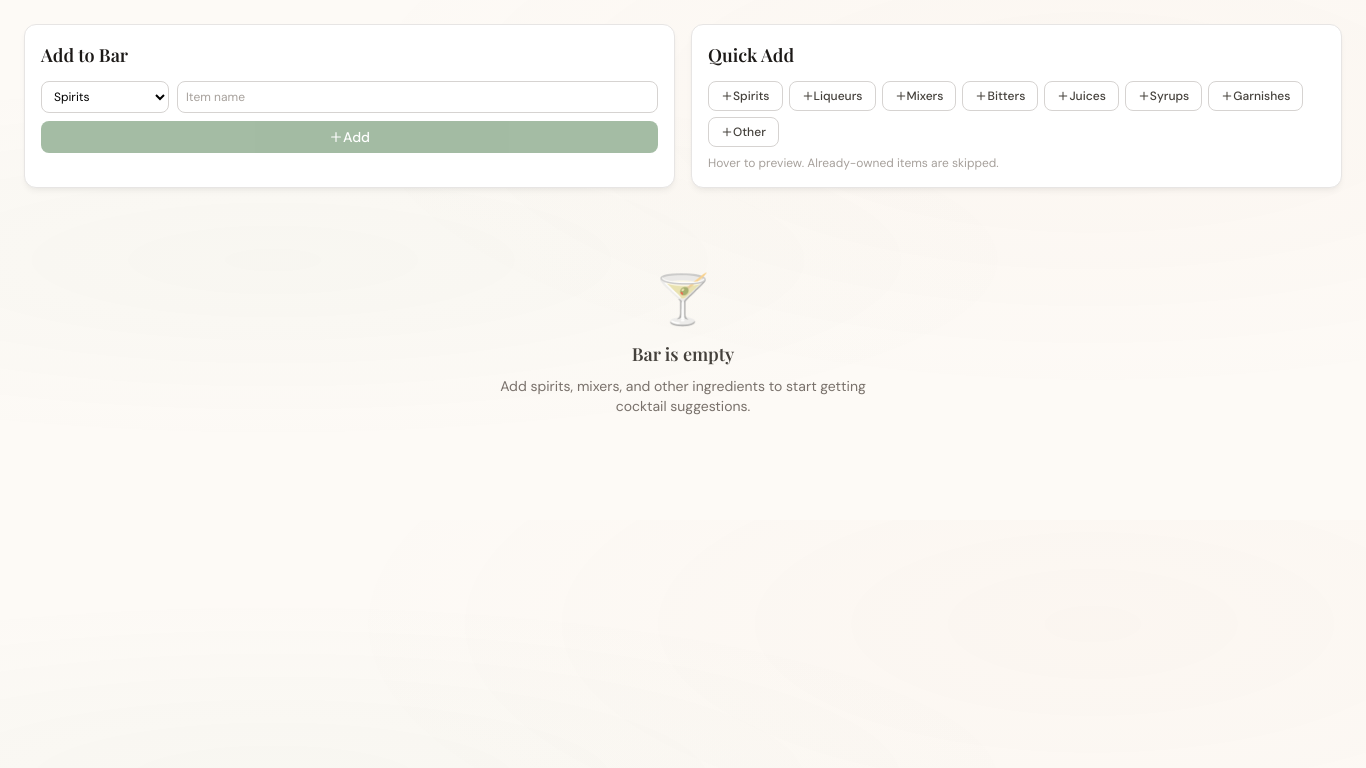
Test: BarInventory › Add-to-Bar: POSTs the new item and refetches so the tile appears
The width and height of the screenshot is (1366, 768).
Expected: the heading "Bar is empty" is shown, [632, 342, 734, 366]
Type "Gin" into the field with placeholder "Item name" at (418, 97), box [177, 81, 658, 113]
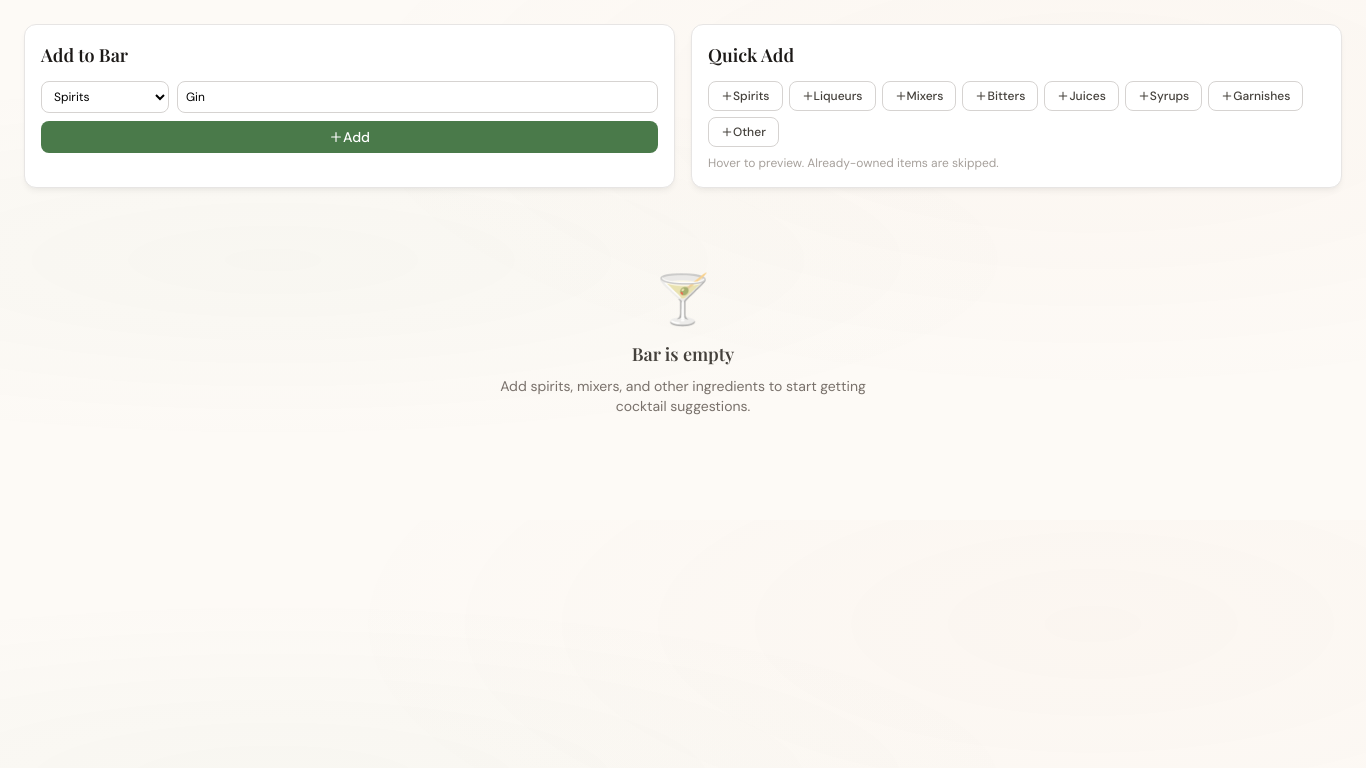
Click the button "Add" at (350, 137), box [41, 121, 658, 153]
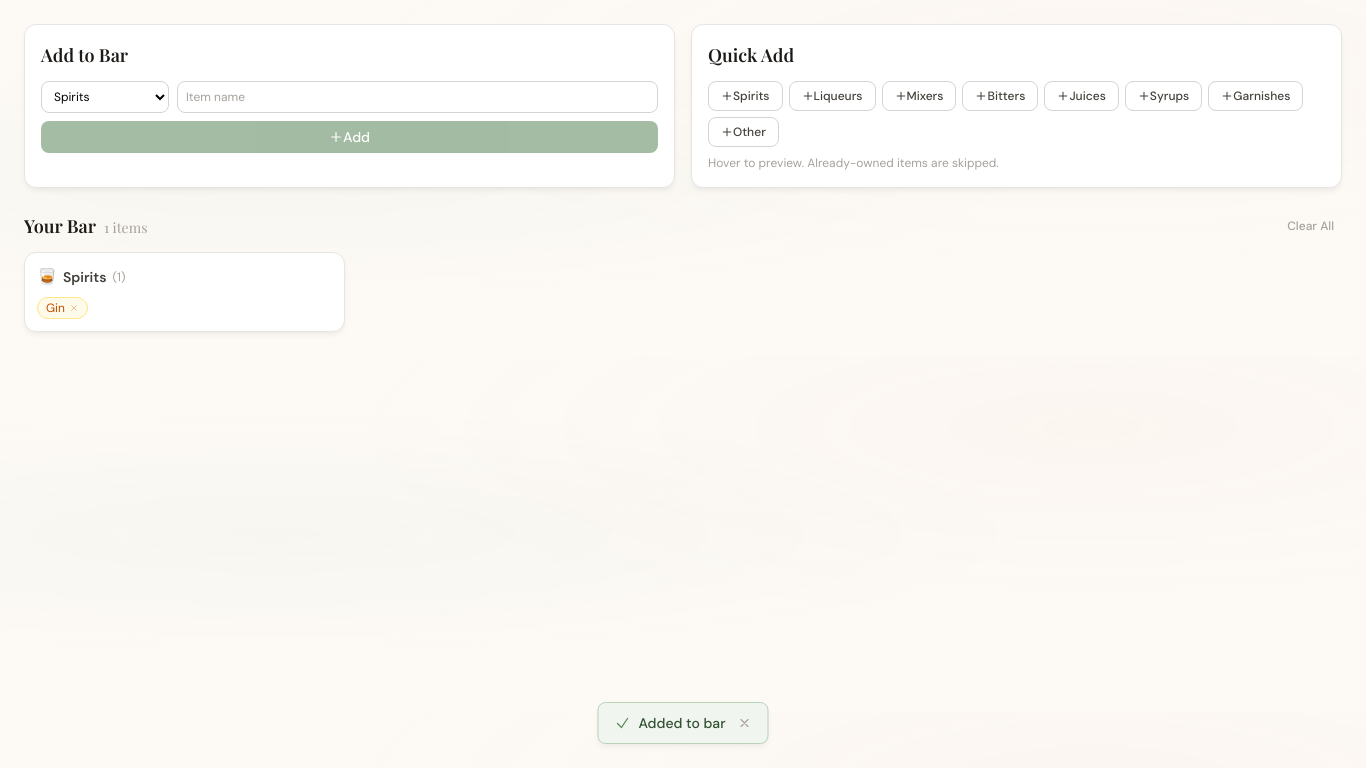
Expected: the text "Gin" is shown, [37, 297, 88, 319]
Expected: the heading "Bar is empty" is gone
